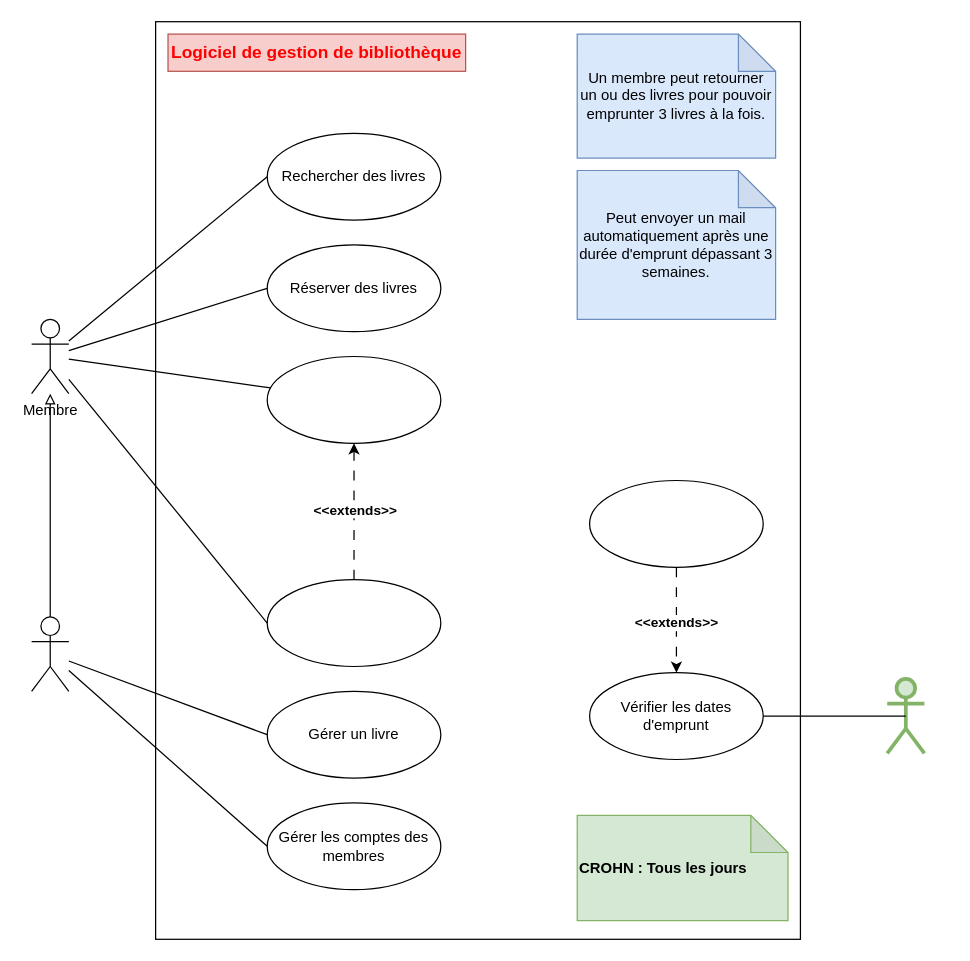
Some shapes in this 970 by 961 pixel diagram are drawn without their labels. The shapes that lost their labels are listed below. From the top down, each one's box as (x1, y1, x2, y2) in pixels, then its label:
(266, 355, 441, 443): Emprunter des livres
(588, 479, 763, 567): Envoyer un mail contentieux
(266, 578, 441, 666): Retourner des livres
(30, 616, 69, 691): Employé
(885, 676, 926, 755): Crohn <<system>>
